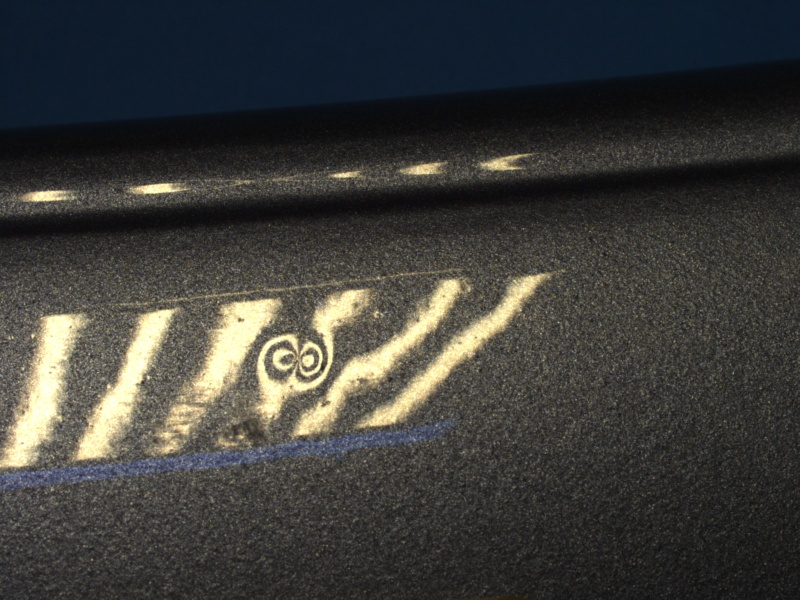bad: (252, 322, 339, 397)
